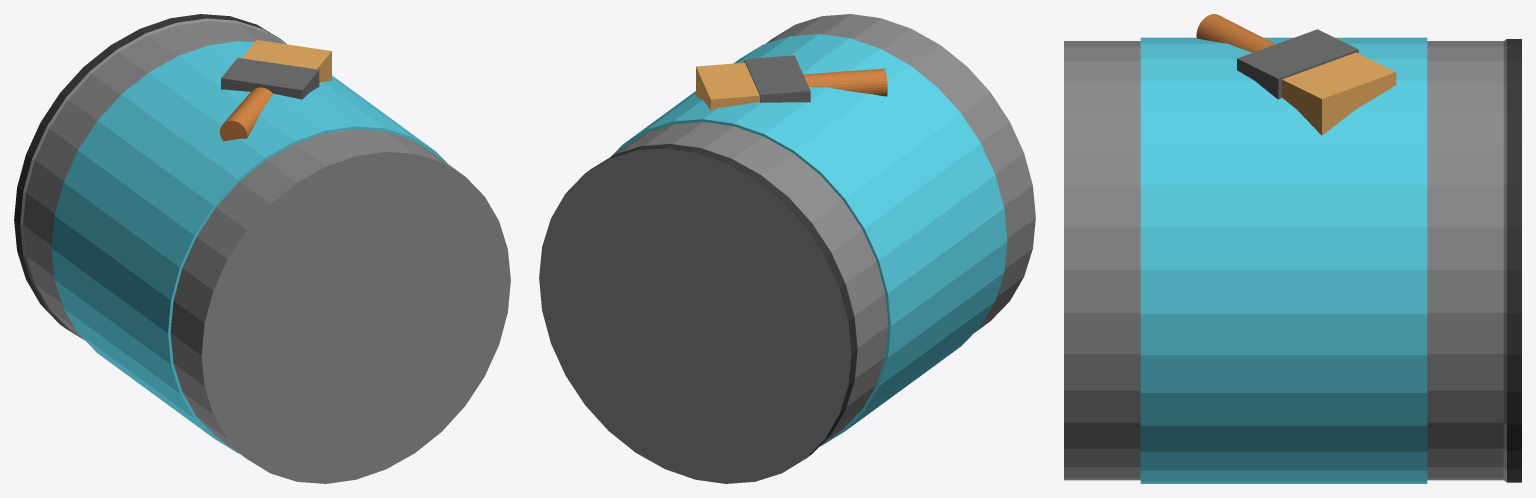
Rendered from PaintBucketIcon.fbx.
3 views of the same model, side by side, from view 1: azimuth 30°, elevation 25°; view 2: azimuth 150°, elevation 25°; view 3: azimuth 270°, elevation 25° (orthographic). The views are drawn at different scales.
Parts seen in each view (by area): view 1: Cylinder.003; view 2: Cylinder.003; view 3: Cylinder.003.
Part boxes in pixels (left/top/right/bottom): Cylinder.003: left=14, top=14, right=510, bottom=483; Cylinder.003: left=539, top=14, right=1035, bottom=483; Cylinder.003: left=1064, top=14, right=1521, bottom=483.
Bounding box in the file's own units: 203 × 208 × 208.
